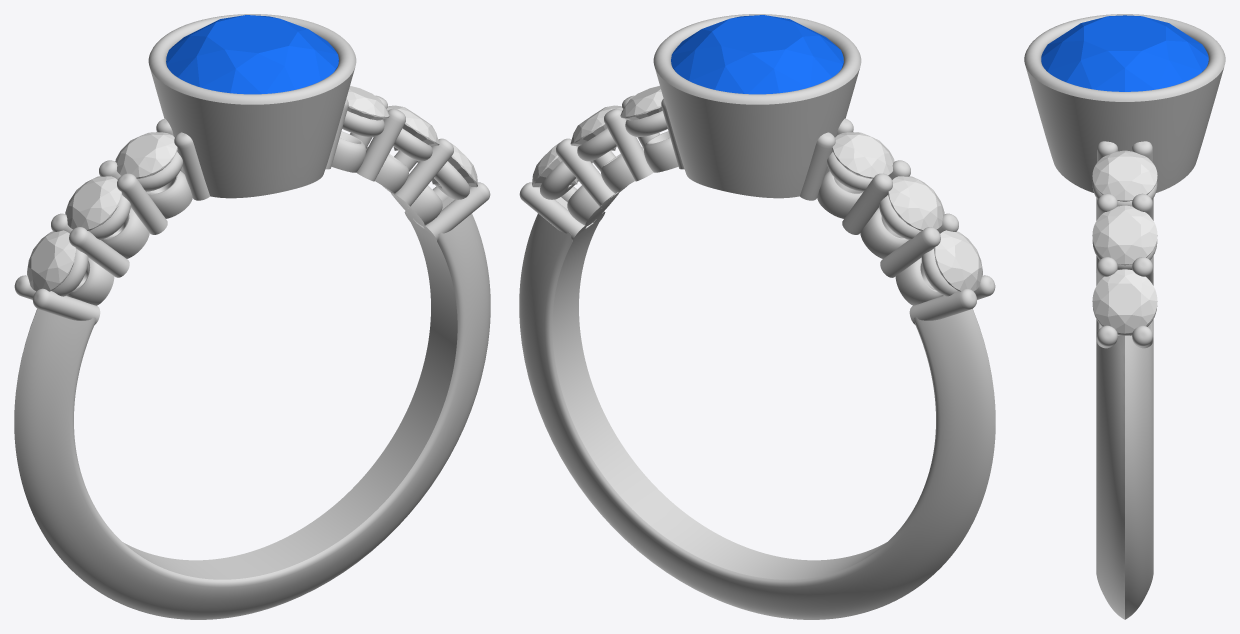
File: bluesapphire-round-platinum-bezelset-knifeedge-3stone.glb
3 renders of one model, left to right at view 1: azimuth 30°, elevation 25°; view 2: azimuth 150°, elevation 25°; view 3: azimuth 270°, elevation 25°, orthographic. The views are drawn at different scales.
Parts seen in each view (by area): view 1: metal, stone, side.001, side.002, side, side.003, side.004, side.005; view 2: metal, stone, side.001, side.002, side, side.003, side.004, side.005; view 3: metal, stone, side.005, side.004, side.003.
Boxes of the visible parts, x1=… form: metal: x1=14, y1=14, x2=490, y2=619; stone: x1=166, y1=15, x2=338, y2=94; side.001: x1=65, y1=176, x2=121, y2=230; side.002: x1=27, y1=230, x2=75, y2=291; side: x1=115, y1=132, x2=177, y2=178; side.003: x1=346, y1=86, x2=389, y2=120; side.004: x1=386, y1=105, x2=439, y2=150; side.005: x1=432, y1=143, x2=477, y2=187; metal: x1=519, y1=14, x2=995, y2=619; stone: x1=671, y1=15, x2=843, y2=94; side.001: x1=888, y1=176, x2=944, y2=230; side.002: x1=934, y1=230, x2=982, y2=291; side: x1=832, y1=132, x2=894, y2=178; side.003: x1=620, y1=86, x2=663, y2=120; side.004: x1=570, y1=105, x2=623, y2=150; side.005: x1=532, y1=143, x2=577, y2=187; metal: x1=1024, y1=14, x2=1225, y2=619; stone: x1=1041, y1=15, x2=1208, y2=91; side.005: x1=1092, y1=269, x2=1157, y2=333; side.004: x1=1092, y1=205, x2=1157, y2=265; side.003: x1=1092, y1=150, x2=1157, y2=201.
Bounding box in the file's own units: 20.51 × 23.81 × 7.74.
